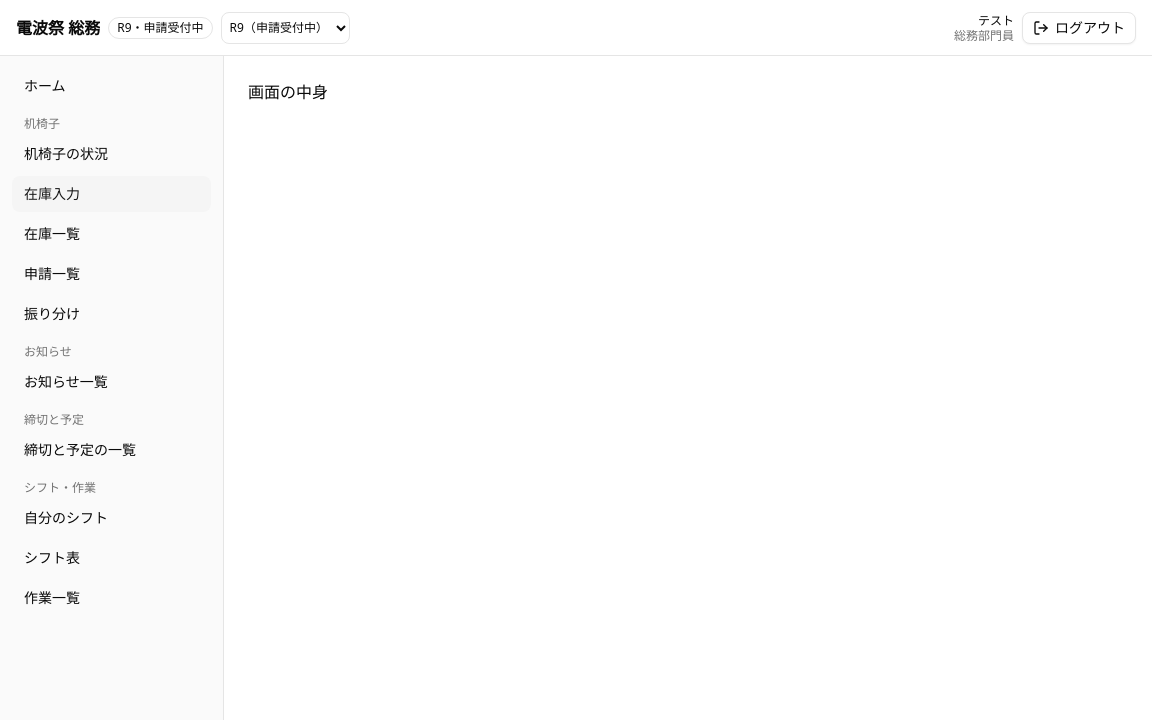
Test: UnsavedChangesGuard：年度の切り替え（D-31） › 続ければ切り替わる（入力は年度ごとの下書きに残る）
The width and height of the screenshot is (1152, 720).
Expected: the text "画面の中身" is shown, [248, 81, 328, 103]
Select "R8（終了）" in the dropdown with test id "year-select". click: (285, 28)
box: [220, 12, 350, 44]
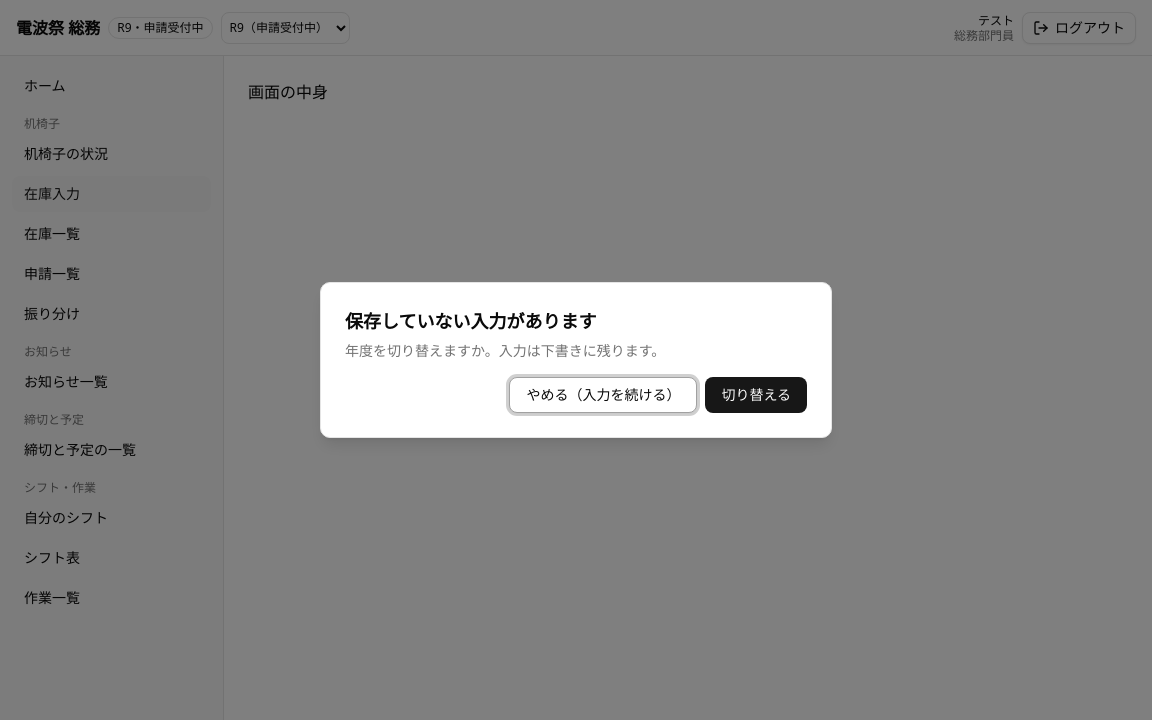
Click the button "切り替える". click: click(756, 395)
box: [705, 377, 807, 413]
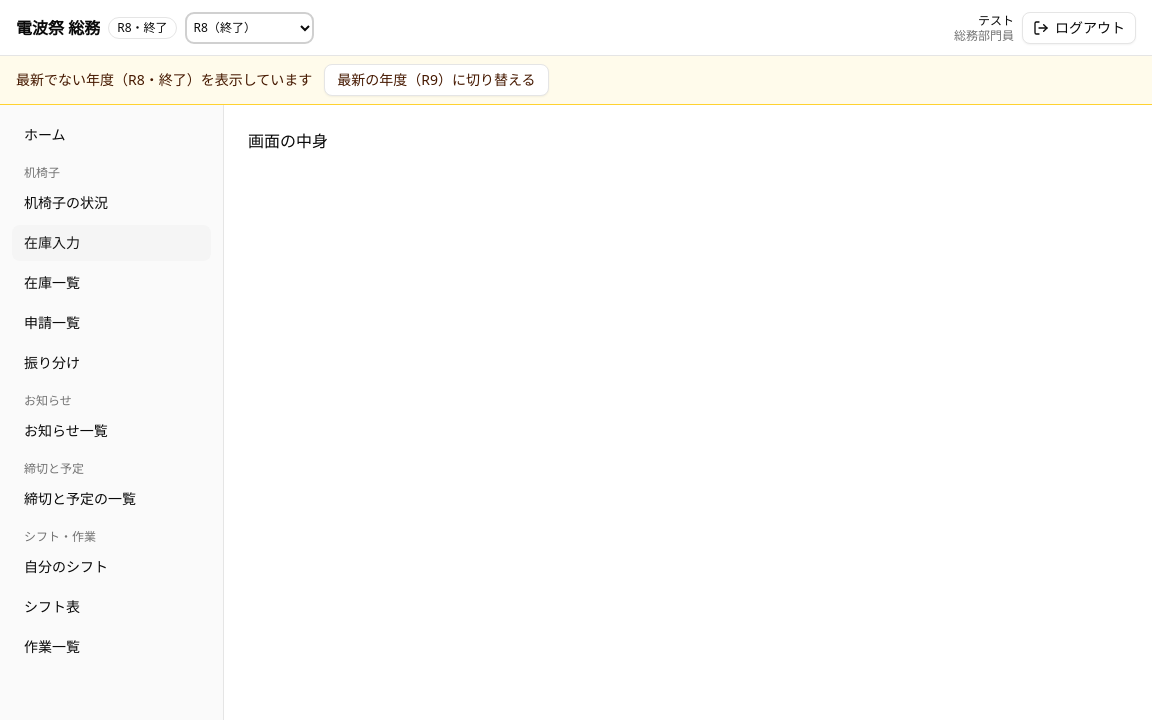
Expected: the text with test id "current-year" reads "R8・終了", [108, 16, 177, 38]
